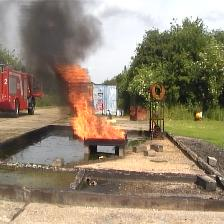fire: (66, 69, 123, 143)
smoke: (26, 3, 90, 61)
